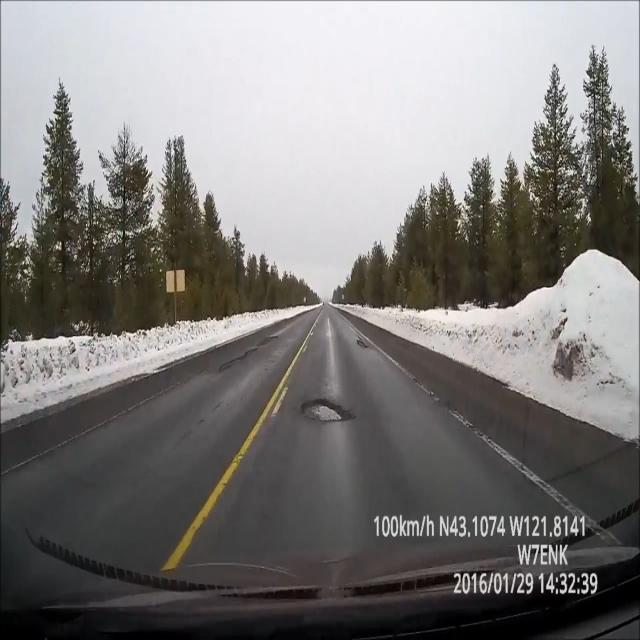Pothole: (290, 390, 356, 434)
